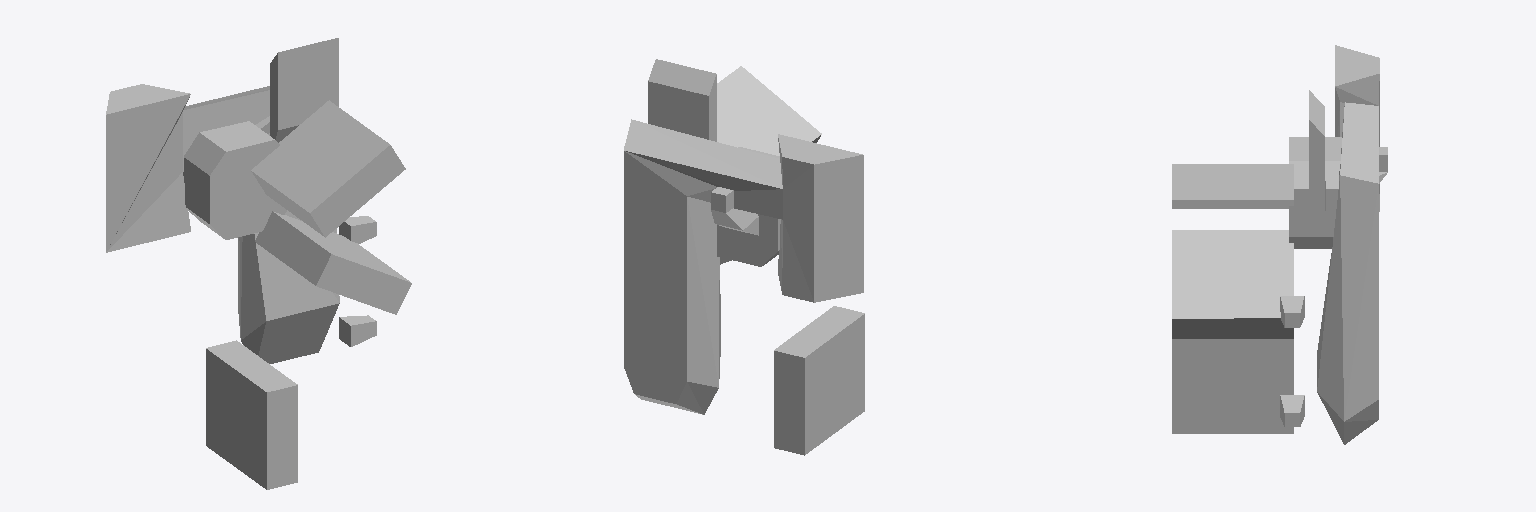
File: ss21a_bound.obj
3 renders of one model, left to right at view 1: azimuth 30°, elevation 25°; view 2: azimuth 150°, elevation 25°; view 3: azimuth 270°, elevation 25°, orthographic.
Parts seen in each view (by area): view 1: frm-bound5, frm-bound1, frm-bound4, frm-bound11, frm-bound2, frm-bound3, frm-bound8, frm-bound10, frm-bound9, frm-bound7; view 2: frm-bound11, frm-bound5, frm-bound4, frm-bound10, frm-bound1, frm-bound8, frm-bound2, frm-bound6; view 3: frm-bound11, frm-bound3, frm-bound4, frm-bound1, frm-bound2, frm-bound10, frm-bound5, frm-bound8, frm-bound9, frm-bound7.
Part boxes in pixels (bbox=[...]): frm-bound5: bbox=[106, 84, 190, 252]; frm-bound1: bbox=[251, 100, 405, 237]; frm-bound4: bbox=[206, 340, 297, 489]; frm-bound11: bbox=[238, 133, 339, 363]; frm-bound2: bbox=[183, 121, 286, 239]; frm-bound3: bbox=[255, 211, 411, 314]; frm-bound8: bbox=[270, 38, 338, 142]; frm-bound10: bbox=[183, 86, 269, 171]; frm-bound9: bbox=[339, 315, 376, 346]; frm-bound7: bbox=[339, 216, 376, 243]; frm-bound11: bbox=[624, 151, 720, 414]; frm-bound5: bbox=[778, 134, 863, 302]; frm-bound4: bbox=[774, 306, 864, 455]; frm-bound10: bbox=[624, 119, 782, 219]; frm-bound1: bbox=[717, 66, 821, 155]; frm-bound8: bbox=[648, 59, 716, 141]; frm-bound2: bbox=[717, 147, 780, 266]; frm-bound6: bbox=[711, 187, 758, 235]; frm-bound11: bbox=[1317, 175, 1378, 444]; frm-bound3: bbox=[1172, 230, 1293, 338]; frm-bound4: bbox=[1172, 339, 1293, 433]; frm-bound1: bbox=[1172, 164, 1293, 208]; frm-bound2: bbox=[1289, 137, 1341, 248]; frm-bound10: bbox=[1339, 102, 1378, 183]; frm-bound5: bbox=[1335, 45, 1379, 211]; frm-bound8: bbox=[1309, 90, 1325, 234]; frm-bound9: bbox=[1280, 395, 1304, 426]; frm-bound7: bbox=[1280, 296, 1304, 327].
Size of the model in its own units: 89.93 by 129 by 68.75.